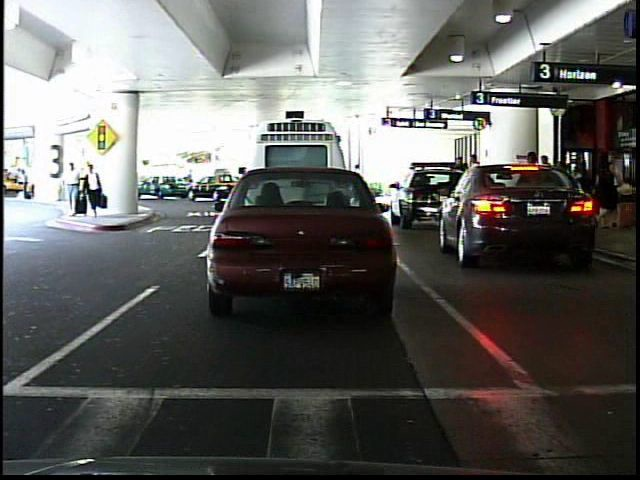person: (83, 160, 107, 222), (63, 157, 86, 218), (346, 158, 367, 204), (20, 166, 36, 204), (182, 166, 201, 195)
